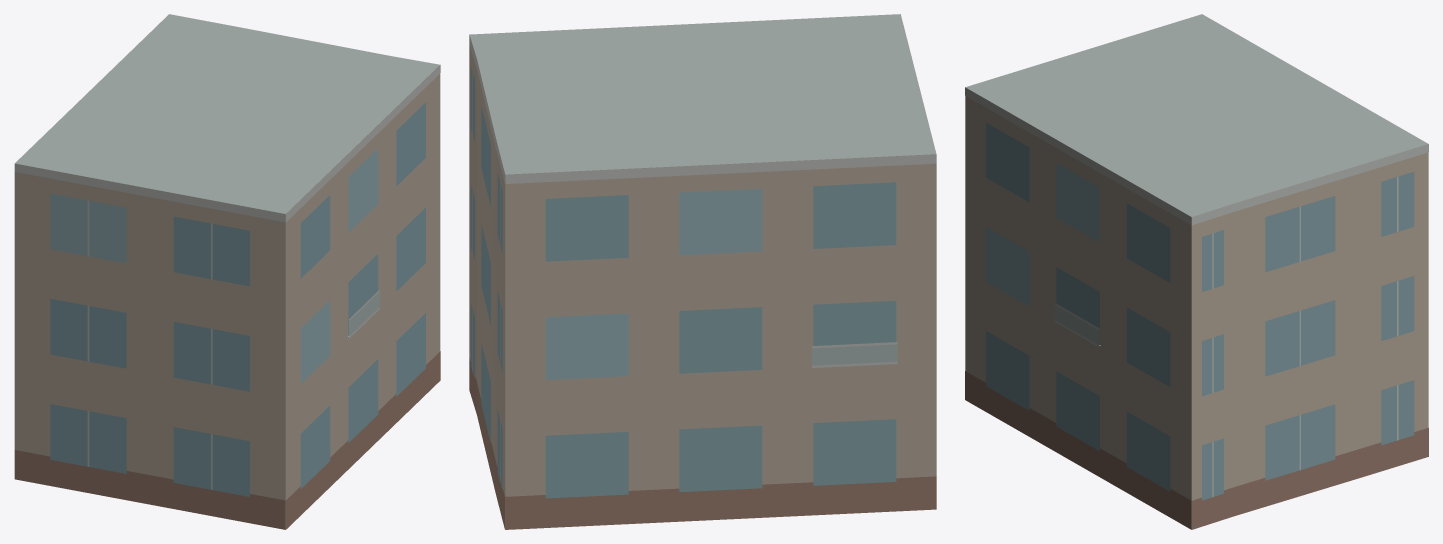
File: survey-upis-32719410.glb
3 views of the same model, side by side, from view 1: azimuth 30°, elevation 25°; view 2: azimuth 150°, elevation 25°; view 3: azimuth 270°, elevation 25° (orthographic). The views are drawn at different scales.
Parts seen in each view (by area): view 1: survey-upis-32719410.tmp; view 2: survey-upis-32719410.tmp; view 3: survey-upis-32719410.tmp.
Boxes of the visible parts, box(x1,y1,x2,y2) form: survey-upis-32719410.tmp: box(14, 14, 440, 529); survey-upis-32719410.tmp: box(469, 14, 936, 529); survey-upis-32719410.tmp: box(965, 14, 1428, 529).
Bounding box in the file's own units: 12.76 × 9.15 × 12.31.
